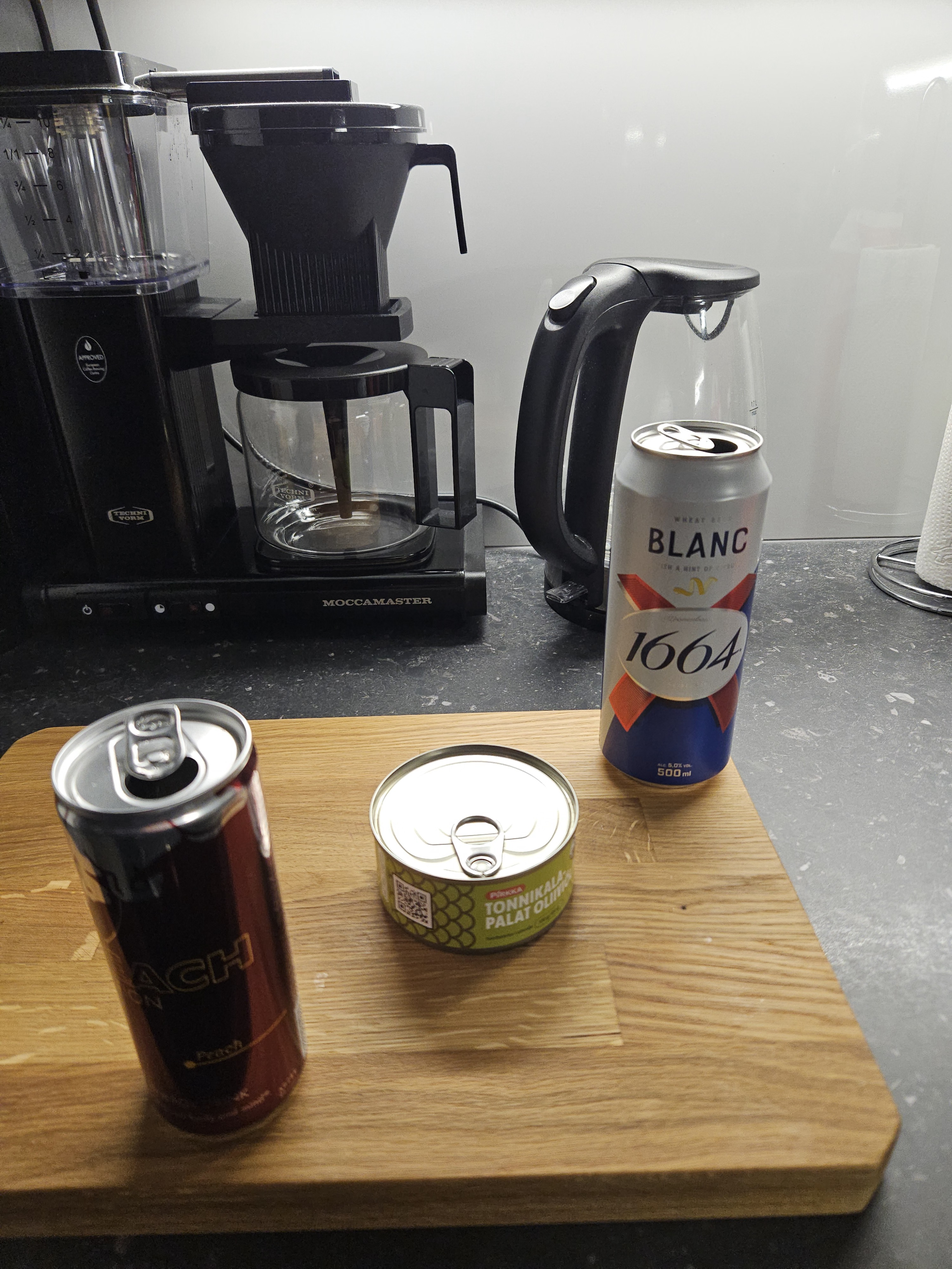Konservburk: (362, 739, 588, 961)
Pantburk: (48, 697, 305, 1132), (599, 405, 791, 789)
